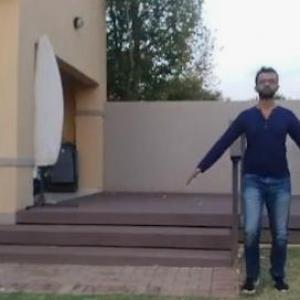land: (177, 69, 299, 299)
